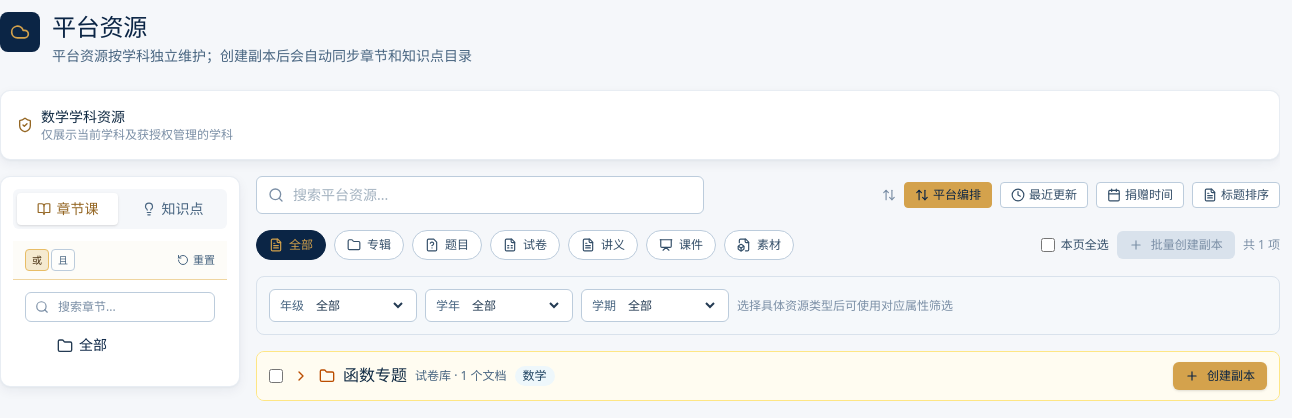
Test case: PlatformResourcesPage layout and filters › creates a copy of a complete platform album
Click the button "创建副本".
click(1220, 376)  # box x1=1173 y1=362 x2=1267 y2=390
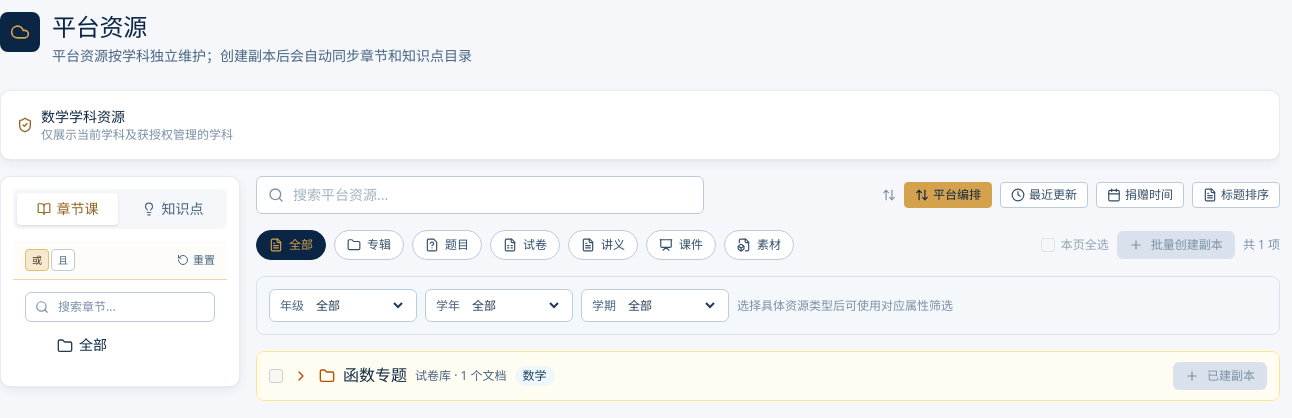
Expected: the button "已建副本" is disabled, x1=1173 y1=362 x2=1267 y2=390
